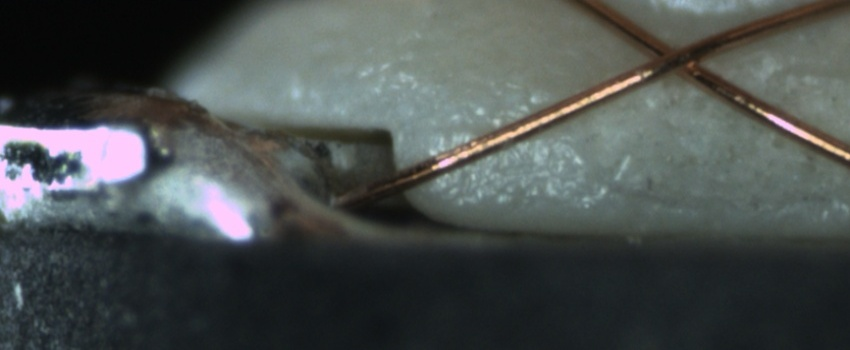CL: (626, 28, 721, 86)
DL: (432, 100, 535, 160)
